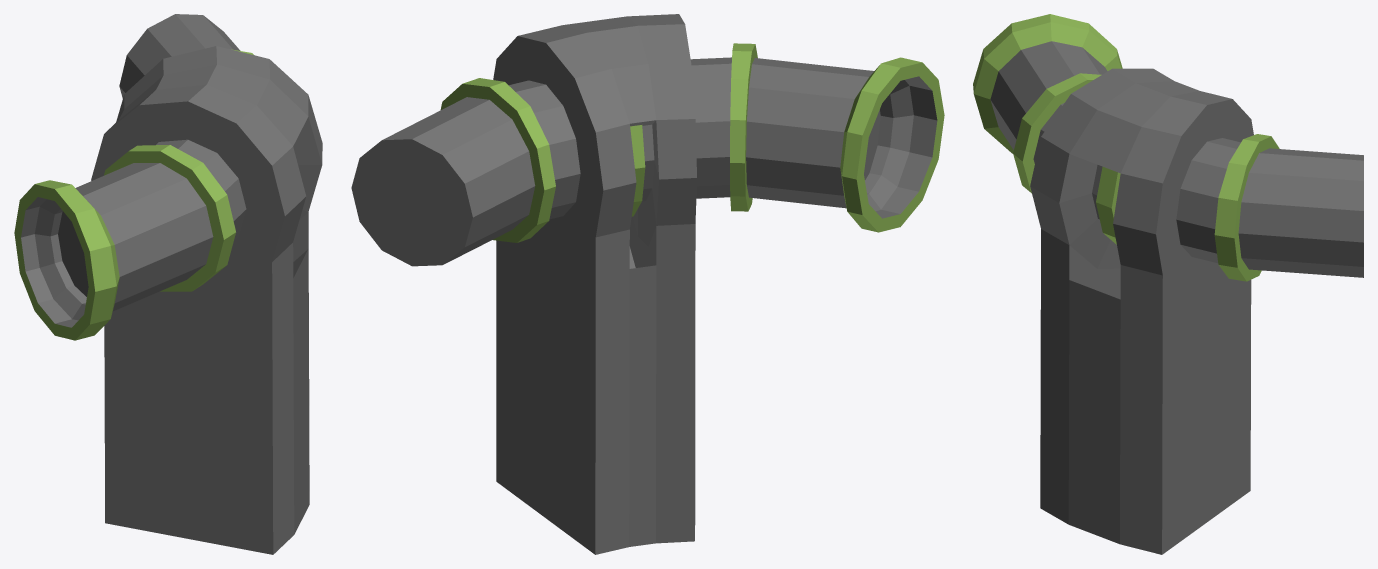
File: Pipe_03.fbx
3 views of the same model, side by side, from view 1: azimuth 30°, elevation 25°; view 2: azimuth 150°, elevation 25°; view 3: azimuth 270°, elevation 25° (orthographic). The views are drawn at different scales.
Visible parts, largest first — view 1: Pipe_03; view 2: Pipe_03; view 3: Pipe_03.
Boxes of the visible parts, x1,y1,x2,y2 form: Pipe_03: (14, 14, 322, 554); Pipe_03: (351, 14, 944, 554); Pipe_03: (973, 14, 1363, 554).
Bounding box in the file's own units: 244 × 299 × 254.
